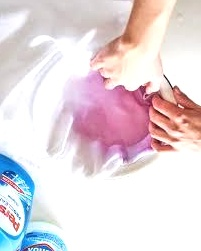wine: (73, 71, 152, 145)
